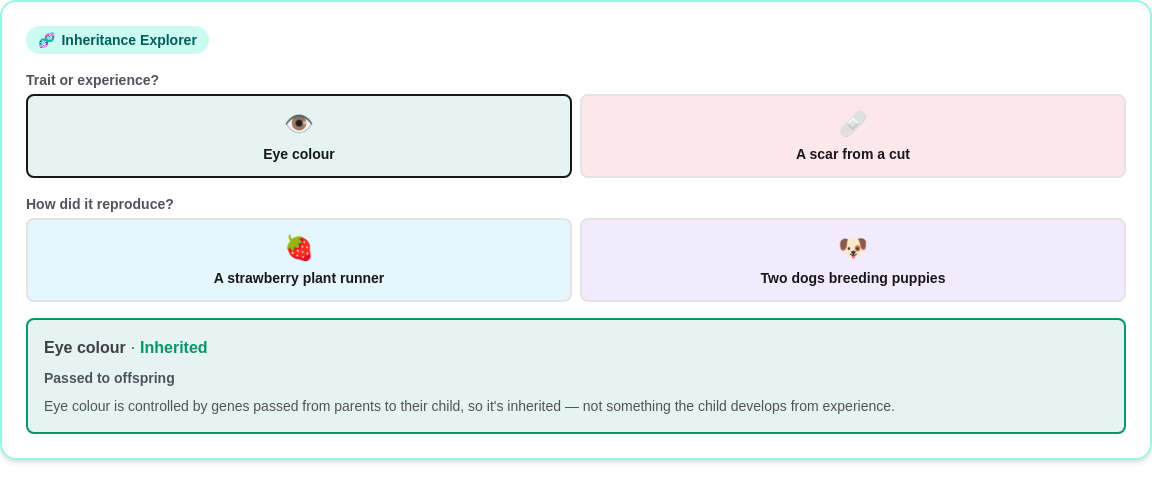
Test: InheritanceExplorer › clicking the scar scenario shows Acquired, not passed to offspring
This screenshot has width=1152, height=481.
Click the button "🩹 A scar from a cut" at (853, 136), box [580,94,1126,178]
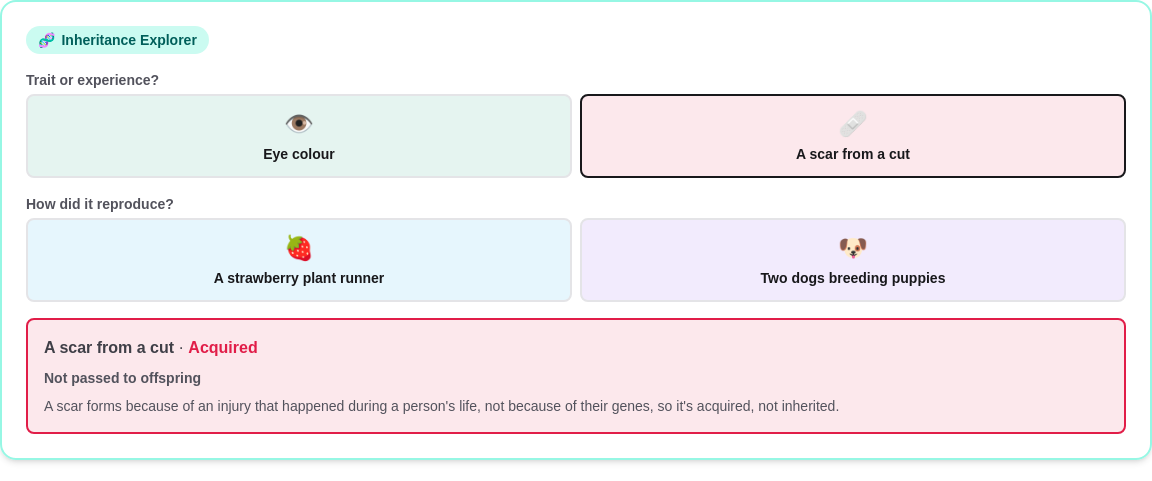
Now the text with test id "scenario-name" reads "A scar from a cut", box [44,339,174,356]
Now the text with test id "classification-label" reads "Acquired", box [188,339,258,356]
Now the text with test id "group-label" reads "Not passed to offspring", box [44,370,201,386]
